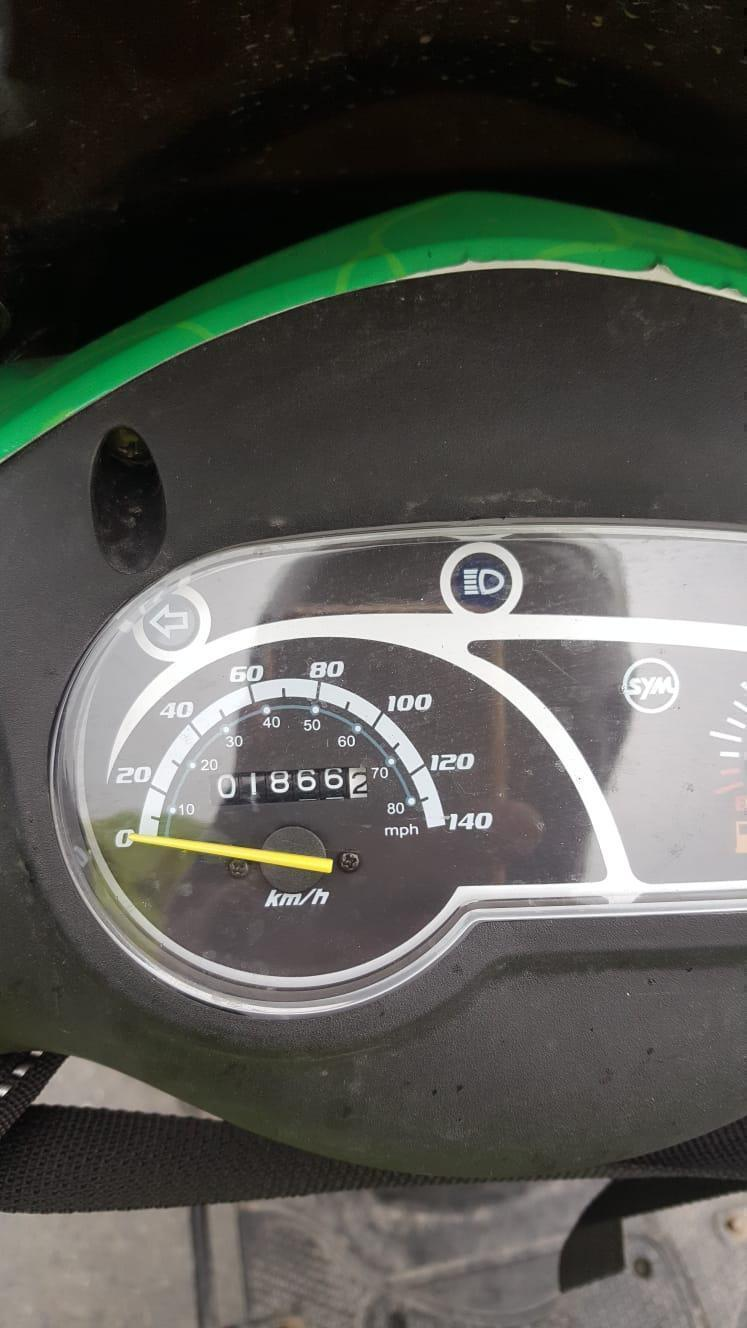0: (215, 772, 237, 800), (209, 762, 218, 771)
1: (245, 770, 260, 797)
2: (349, 770, 368, 795), (201, 762, 209, 771)
6: (294, 767, 318, 792), (321, 765, 344, 791)
8: (267, 768, 290, 795)
odometer: (201, 762, 373, 810)
